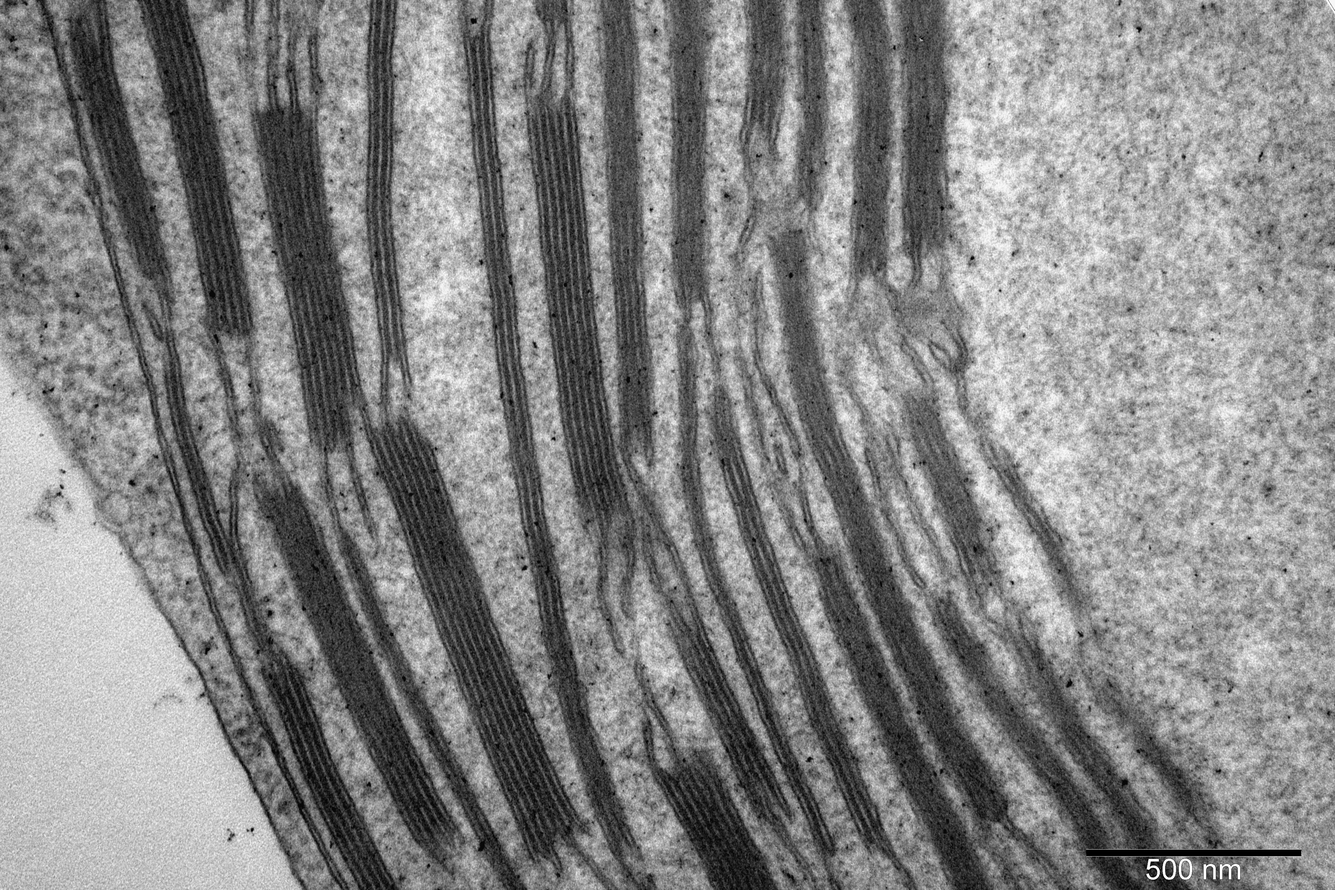granum: (760, 226, 1015, 824), (461, 31, 638, 856), (362, 410, 593, 865), (248, 467, 473, 867), (704, 382, 891, 853), (798, 541, 1000, 890), (919, 586, 1149, 890), (983, 608, 1200, 890), (520, 90, 638, 527), (246, 105, 374, 455), (133, 0, 259, 339), (248, 639, 404, 890), (592, 0, 663, 456), (62, 8, 178, 287), (889, 380, 1008, 607), (671, 627, 796, 831), (650, 742, 785, 889), (361, 0, 412, 362), (660, 0, 718, 308), (837, 0, 900, 277), (891, 0, 954, 260), (790, 0, 835, 203), (737, 0, 790, 136), (207, 535, 252, 580), (527, 0, 576, 25)
